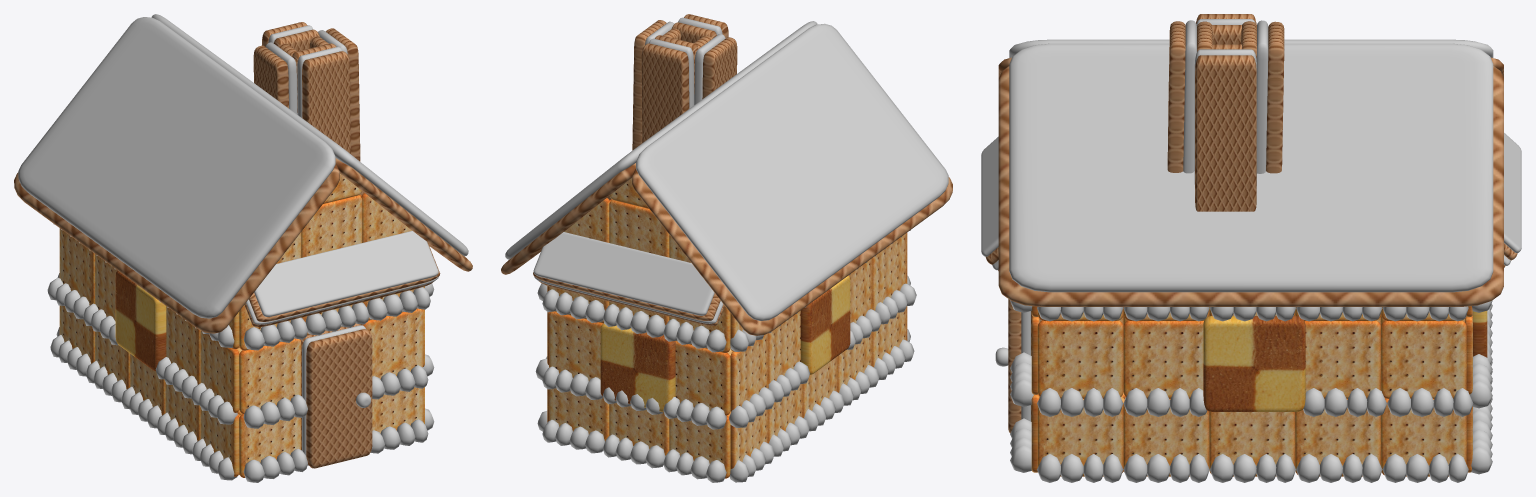
Rendered from cw_house_17.fbx.
3 views of the same model, side by side, from view 1: azimuth 30°, elevation 25°; view 2: azimuth 150°, elevation 25°; view 3: azimuth 270°, elevation 25° (orthographic). The views are drawn at different scales.
Visible parts, largest first — view 1: cw_house_17; view 2: cw_house_17; view 3: cw_house_17.
Boxes of the visible parts, x1,y1,x2,y2 form: cw_house_17: (14, 14, 472, 482); cw_house_17: (501, 14, 952, 482); cw_house_17: (981, 14, 1521, 482).
Size of the model in its own units: 477 by 590 by 680.
